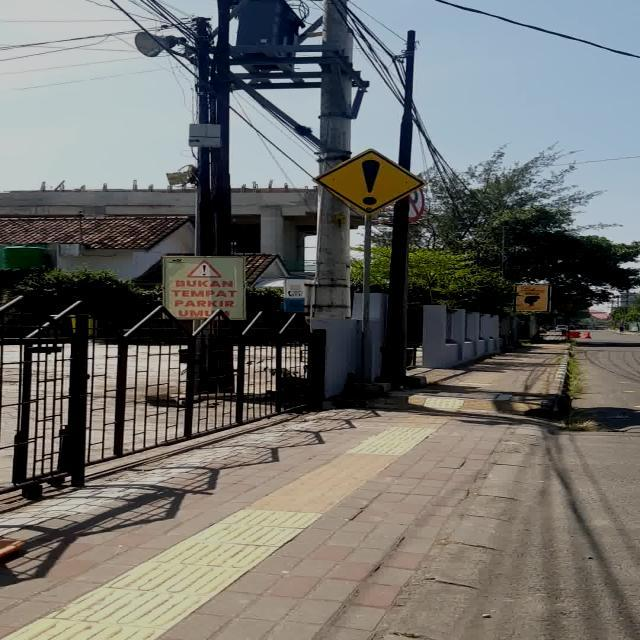Hati-Hati: (312, 148, 428, 214)
